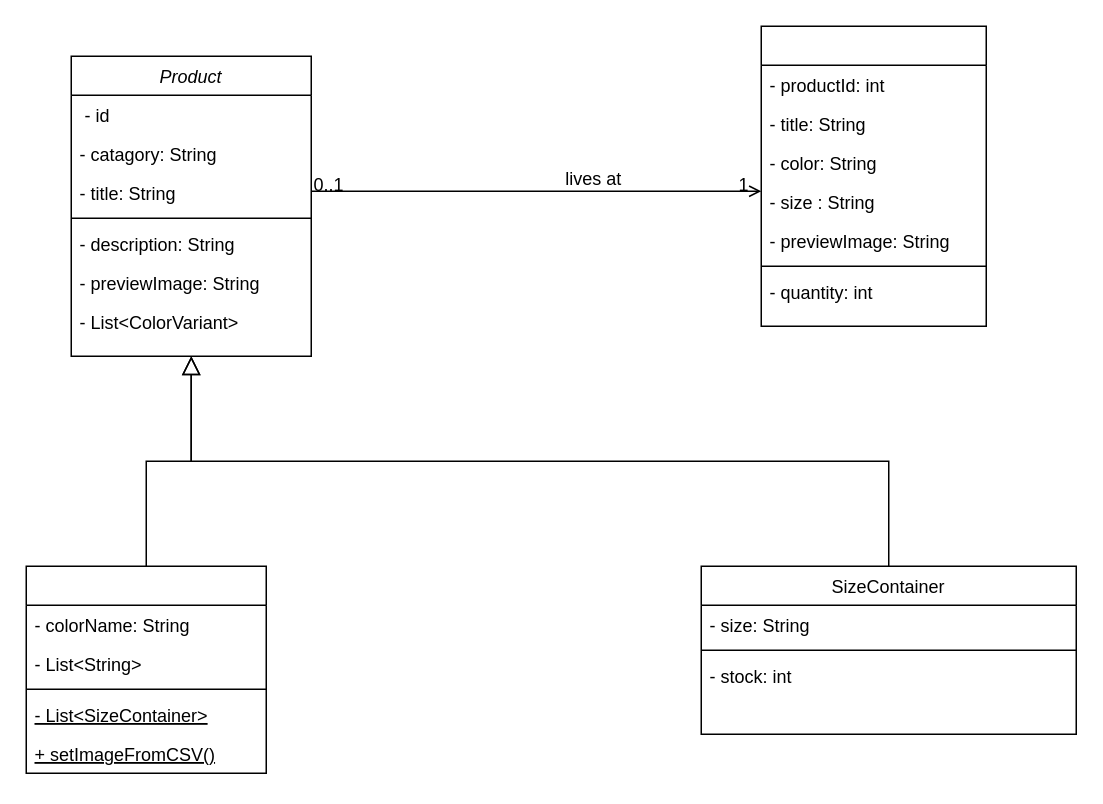
Image size: 1103x804. Some labels were removed from this diagram. Each missing label, with the box of its shape:
CartItems: (760, 25, 986, 326)
ColorVariant: (25, 565, 266, 773)
